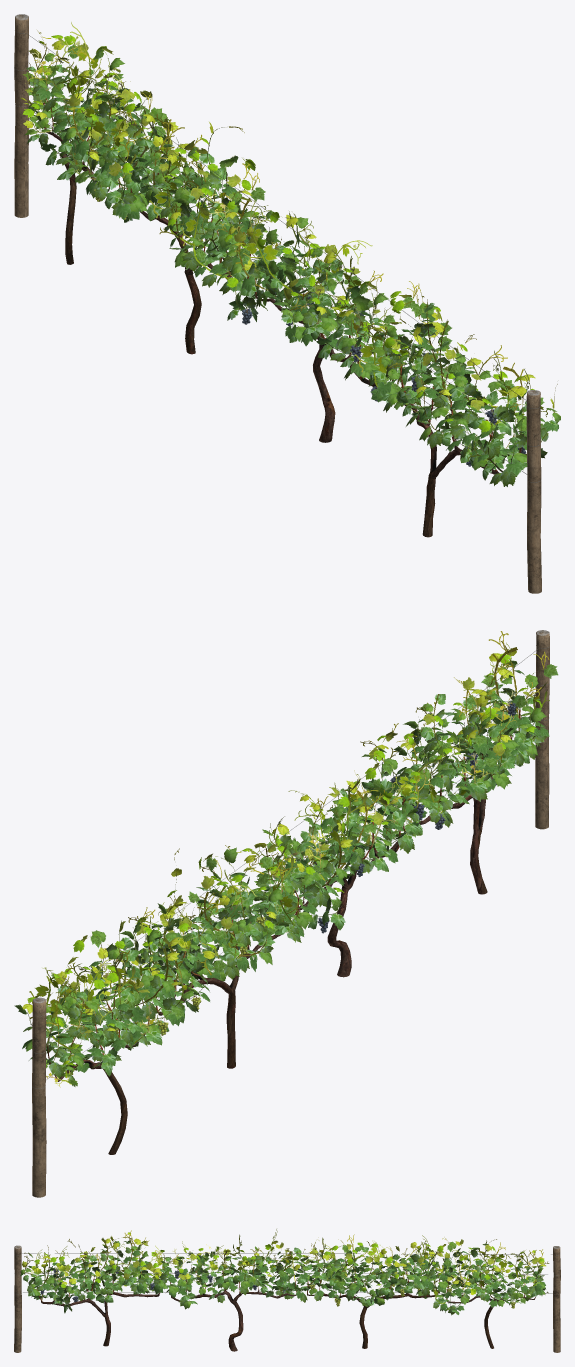
Rendered from vineyard.dae.
3 renders of one model, top to bottom at view 1: azimuth 30°, elevation 25°; view 2: azimuth 150°, elevation 25°; view 3: azimuth 270°, elevation 25°, orthographic. The views are drawn at different scales.
Parts seen in each view (by area): view 1: Object388, Object222, Object386, Object114, Object389; view 2: Object222, Object388, Object114, Object386, Object389; view 3: Object222, Object388, Object386, Object114, Object389.
Part boxes in pixels (x1,y1,x2,y2): Object388: (354,286,560,537); Object222: (99,90,295,354); Object386: (222,200,424,442); Object114: (20,22,181,264); Object389: (14,14,541,593); Object222: (116,834,319,1068); Object388: (374,631,558,894); Object114: (14,907,194,1154); Object386: (262,740,435,977); Object389: (32,630,549,1197); Object222: (293,1234,456,1348); Object388: (20,1230,171,1346); Object386: (159,1229,308,1351); Object114: (433,1237,549,1348); Object389: (14,1245,560,1352).
Size of the model in its own units: 13.49 by 104 by 24.8.
2 materials, 2 textured.
